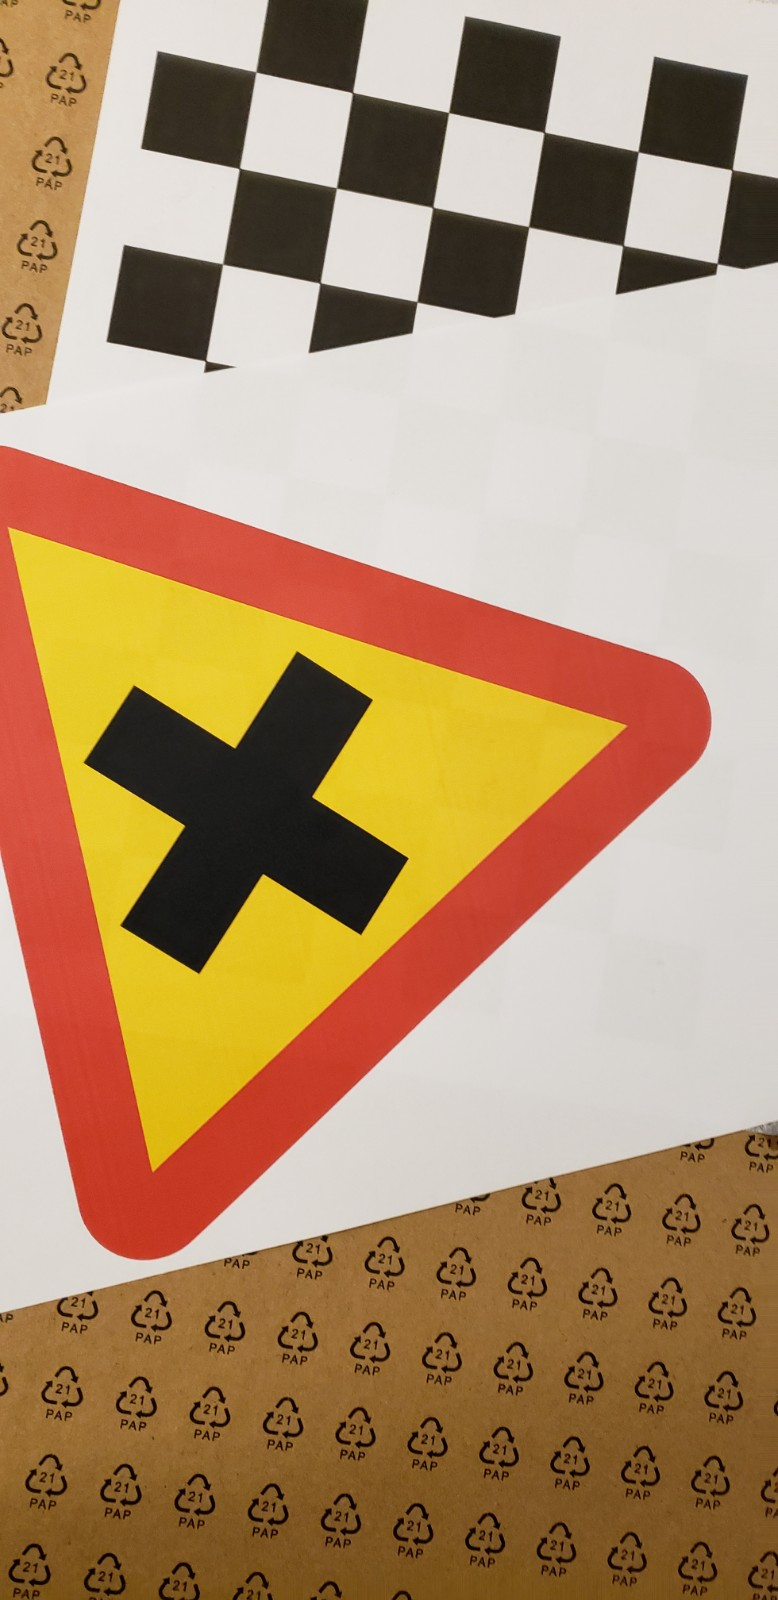junction: (5, 404, 741, 1327)
